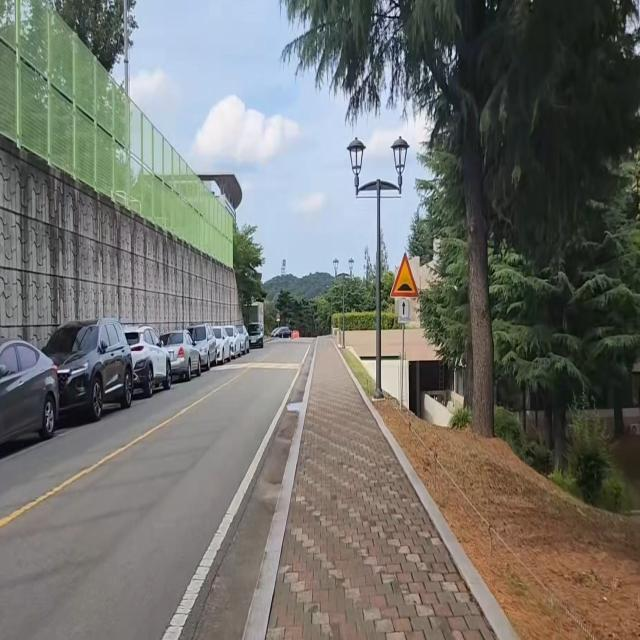obstacle: (344, 128, 413, 400)
road: (0, 341, 311, 640)
sidewalk: (246, 338, 514, 640)
